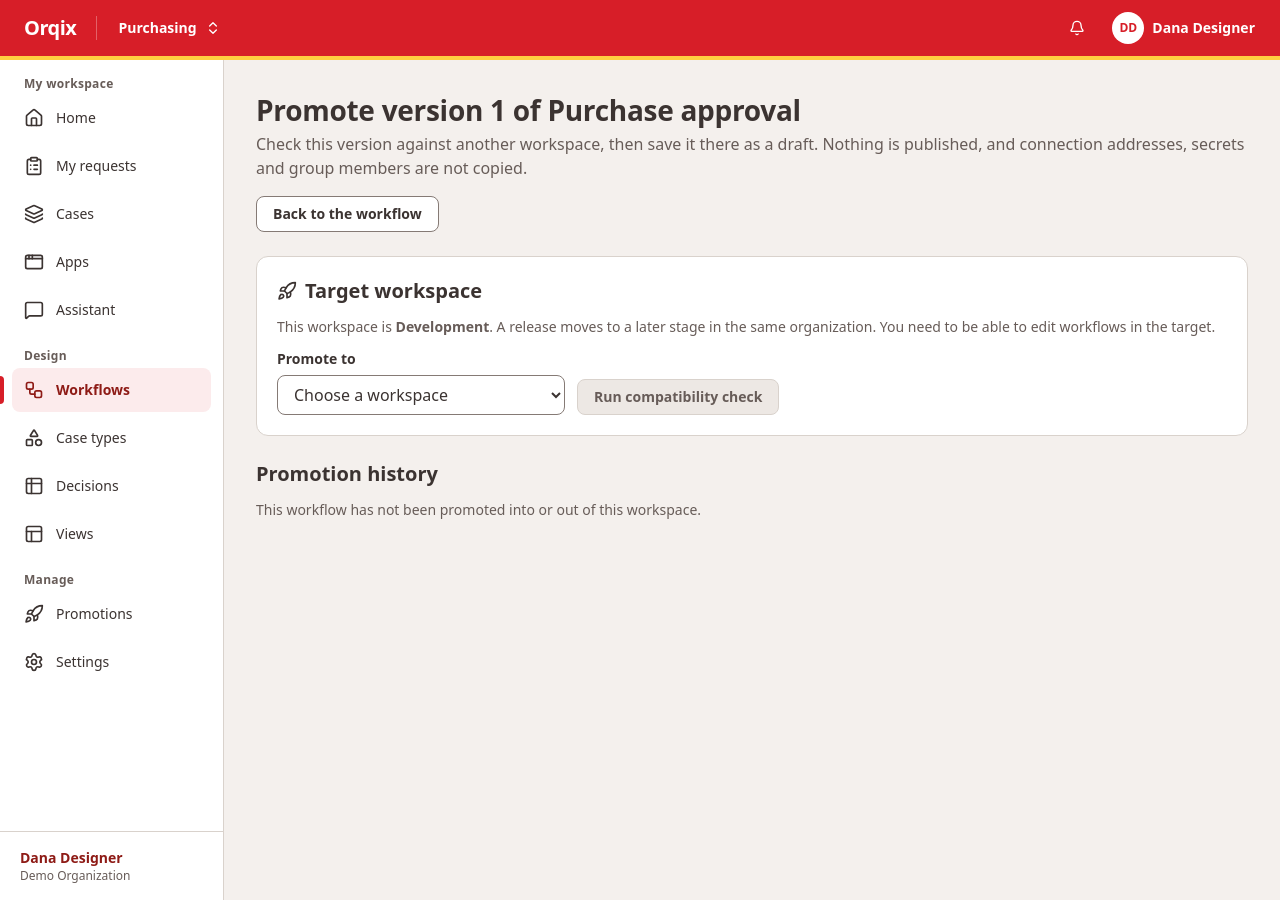
Test case: promotion approvals (PL02) › shows requests to a workspace member without the approval permission but no decision buttons
The width and height of the screenshot is (1280, 900).
Select "Purchasing sandbox (Production)" in the dropdown labelled "Promote to": (421, 395) 277,375 -> 565,415
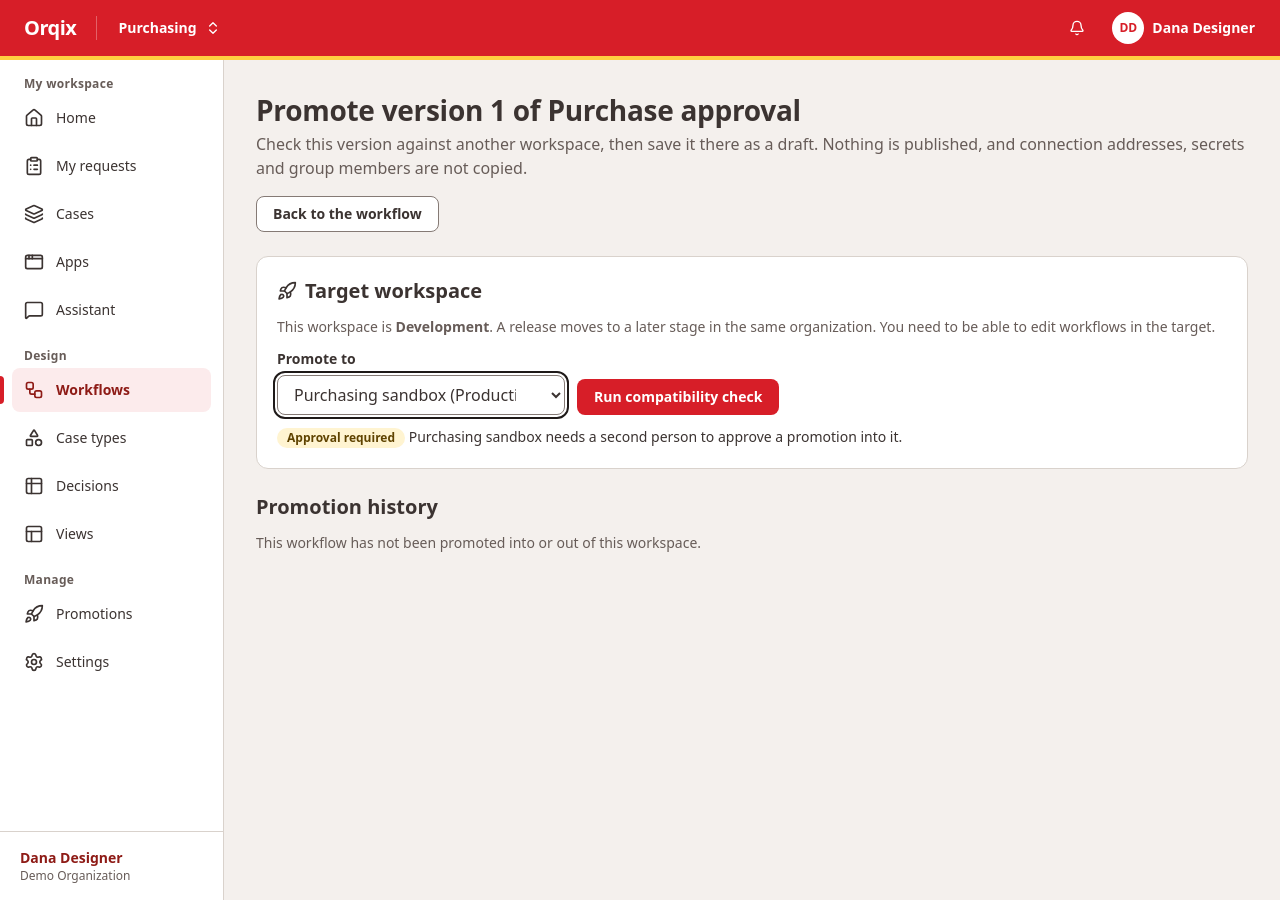
Click the button "Run compatibility check": (678, 397) 577,379 -> 780,415
(page scrolled)
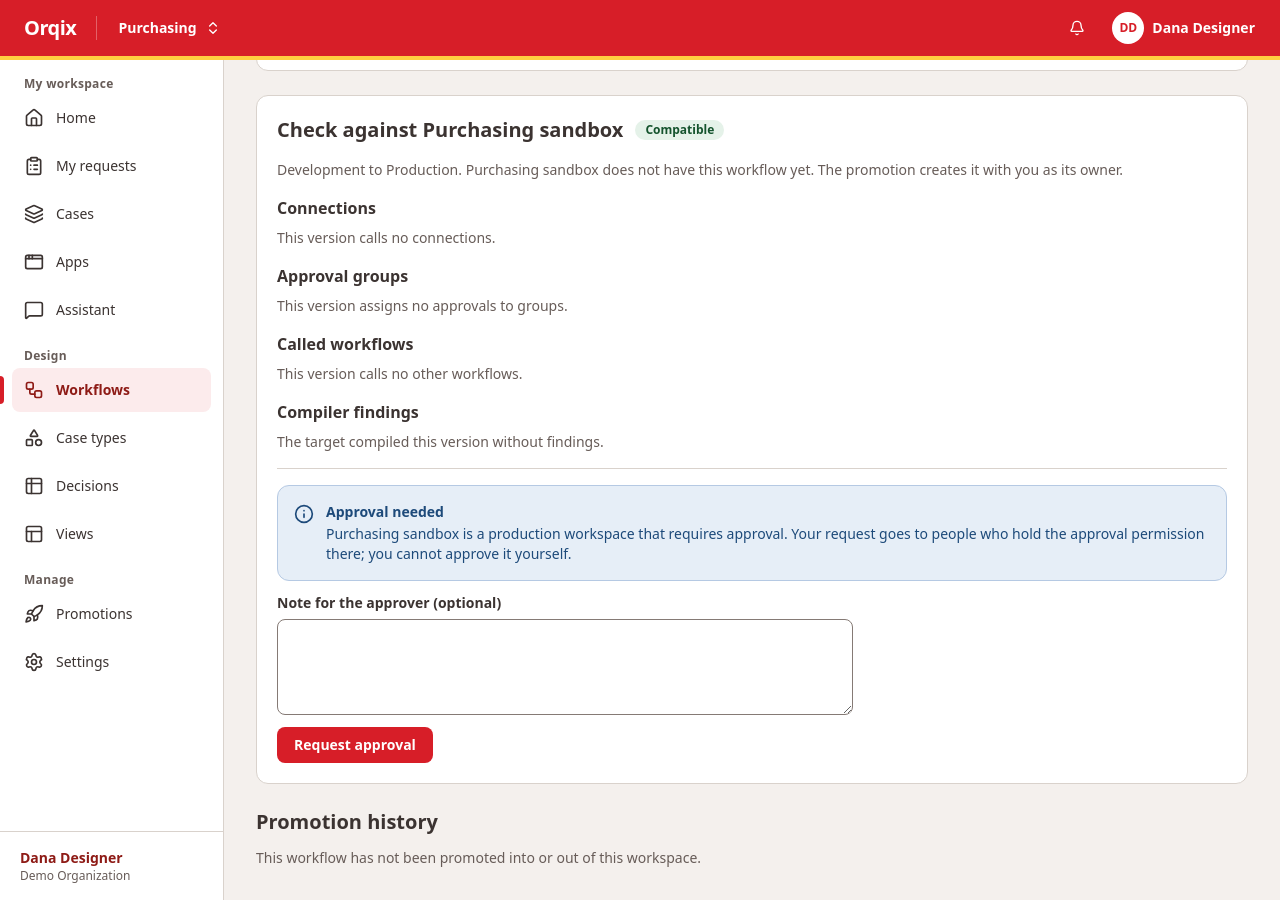
Click the button "Request approval": (355, 745) 277,727 -> 433,763
(page scrolled)
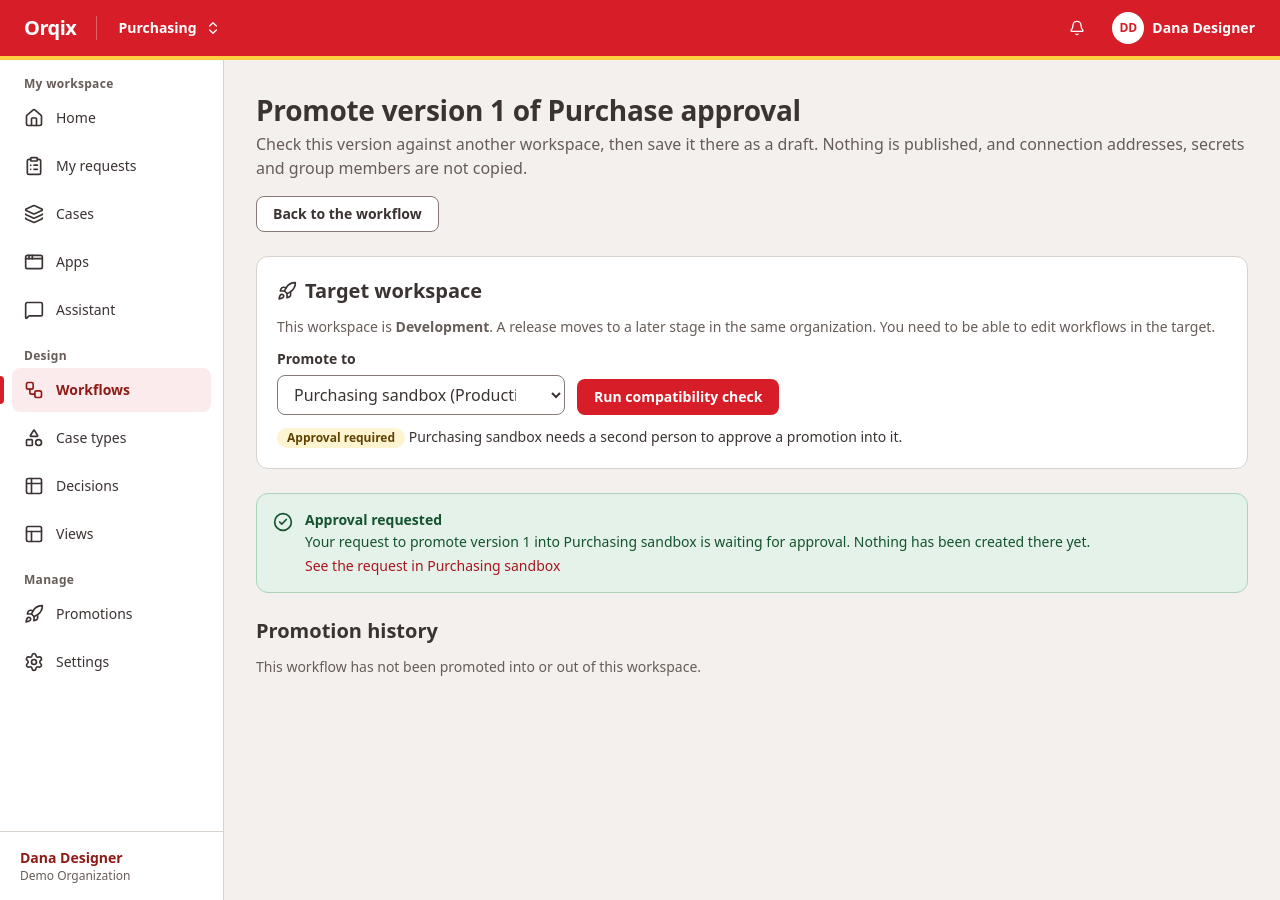
Check: the text with test id "promotion-outcome" is shown, box 305,532 -> 1090,551
